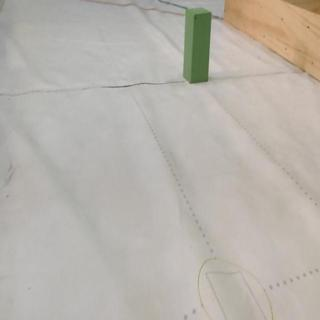greenbox: (183, 5, 213, 86)
